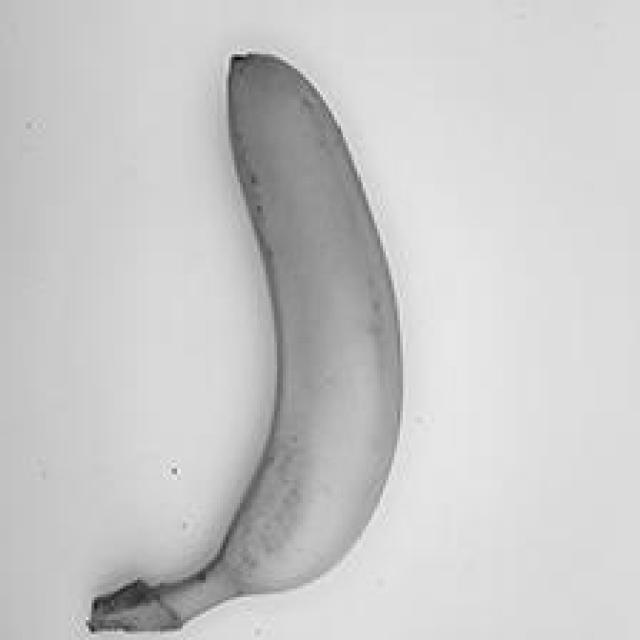Unripe: (60, 14, 440, 640)
